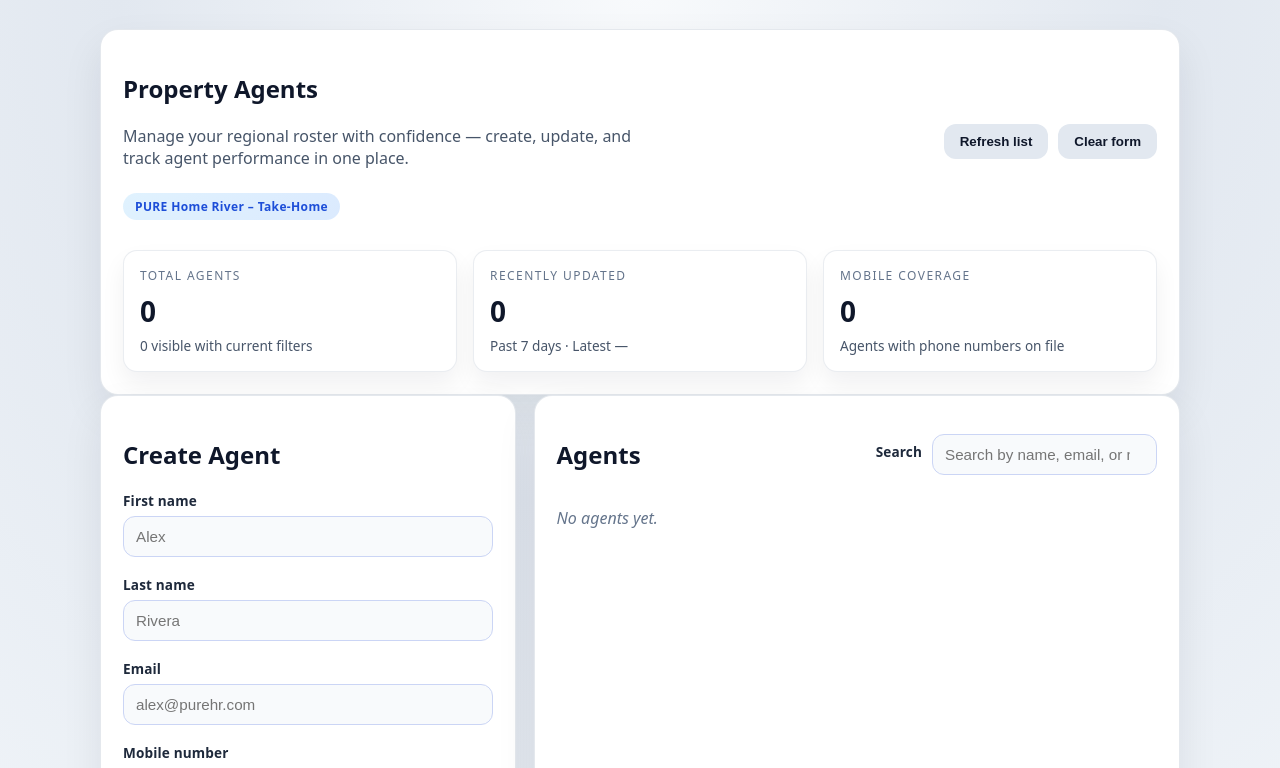
Test: App › submits create form and refreshes list
The image size is (1280, 768).
Type "Jamie" into the field with test id "first-name". click: (308, 536)
box: [123,516,493,557]
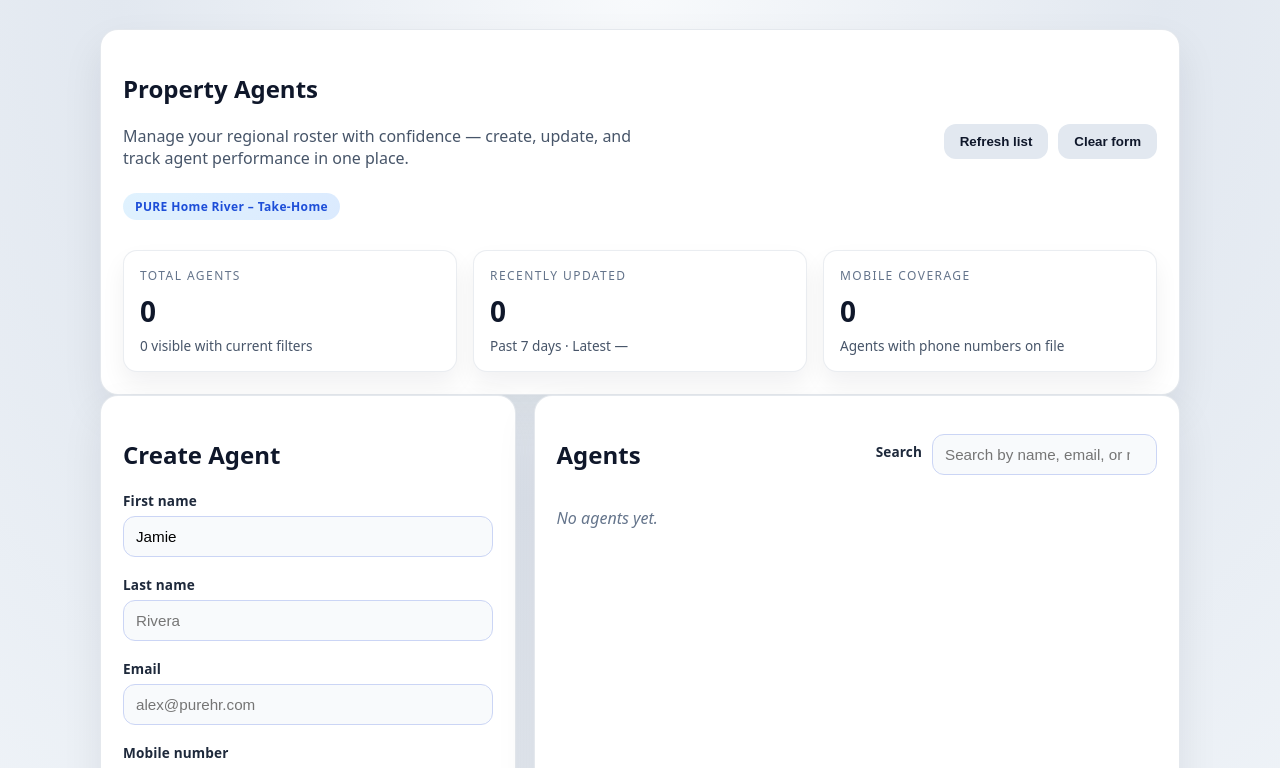
Type "Lee" into the field with test id "last-name". click: (308, 620)
box: [123,600,493,641]
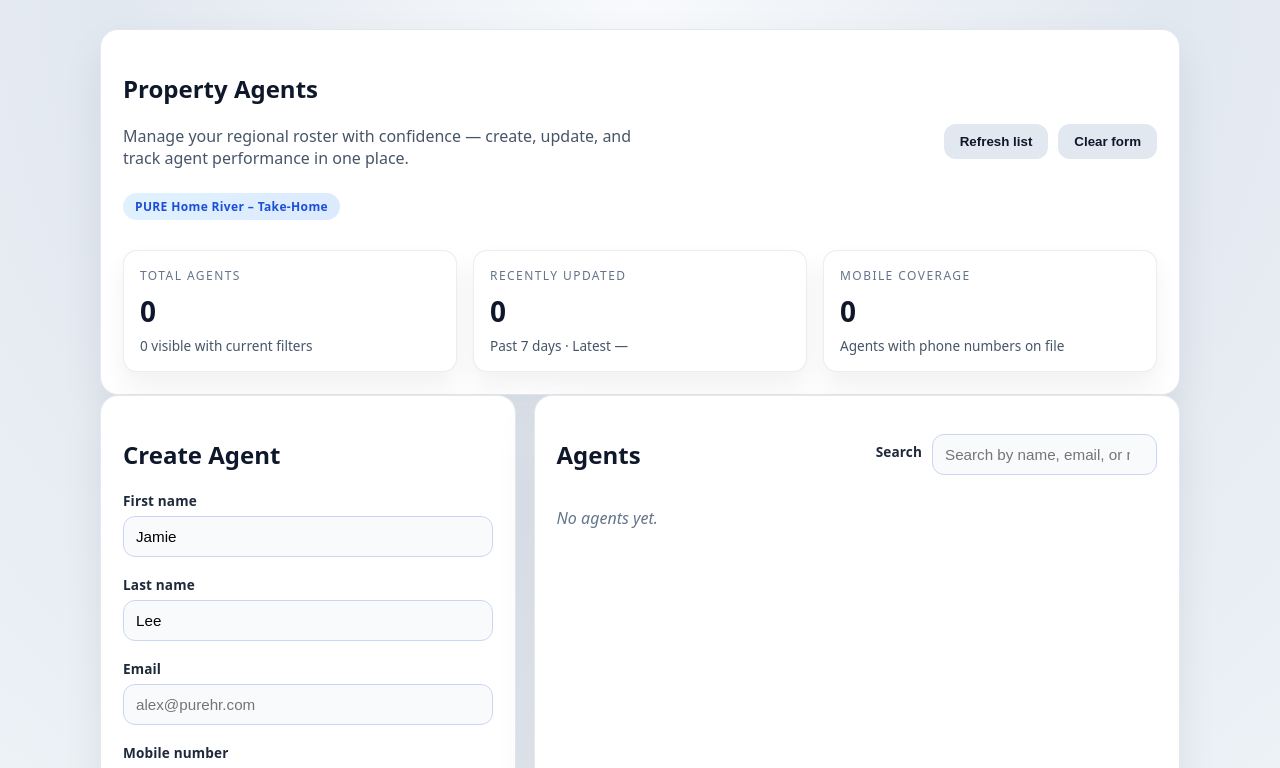
Type "jamie@purehr.com" into the field with test id "email". click: (308, 704)
box: [123,684,493,725]
(page scrolled)
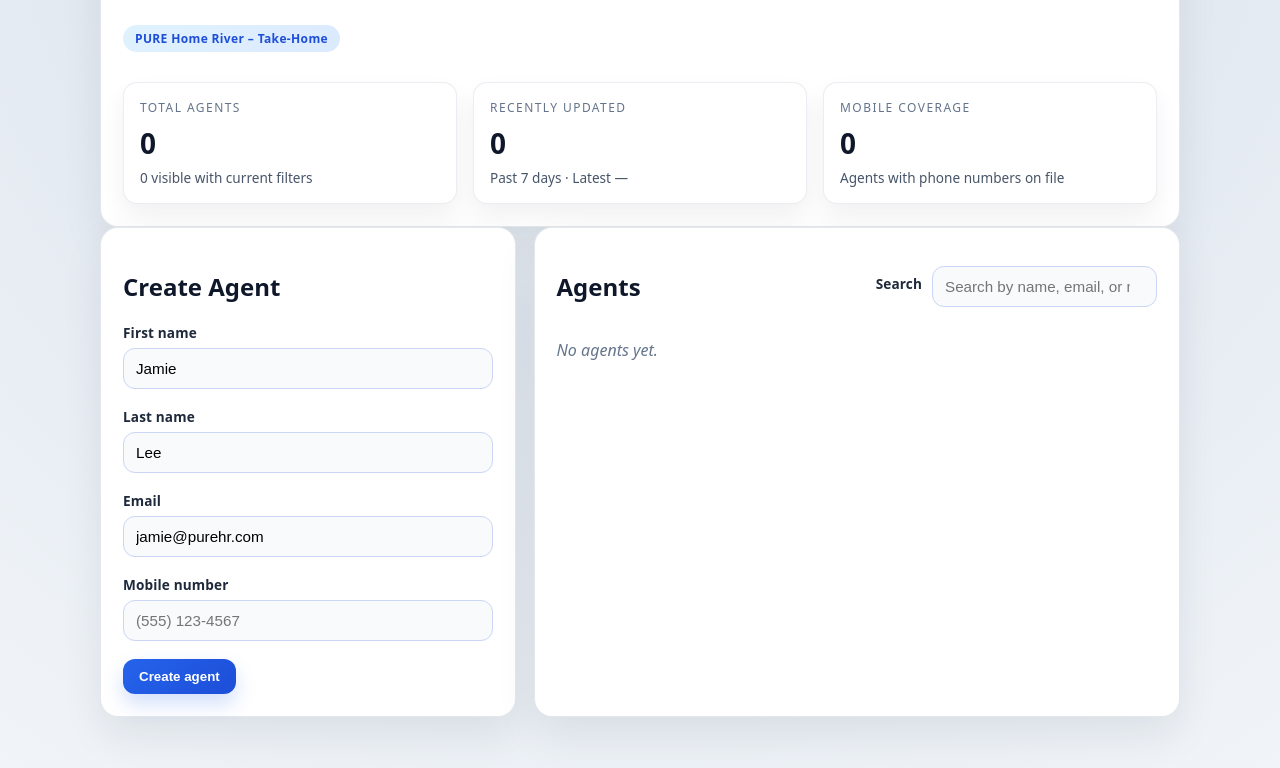
Type "555-777-8888" into the field with test id "mobile-number". click: (308, 620)
box: [123,600,493,641]
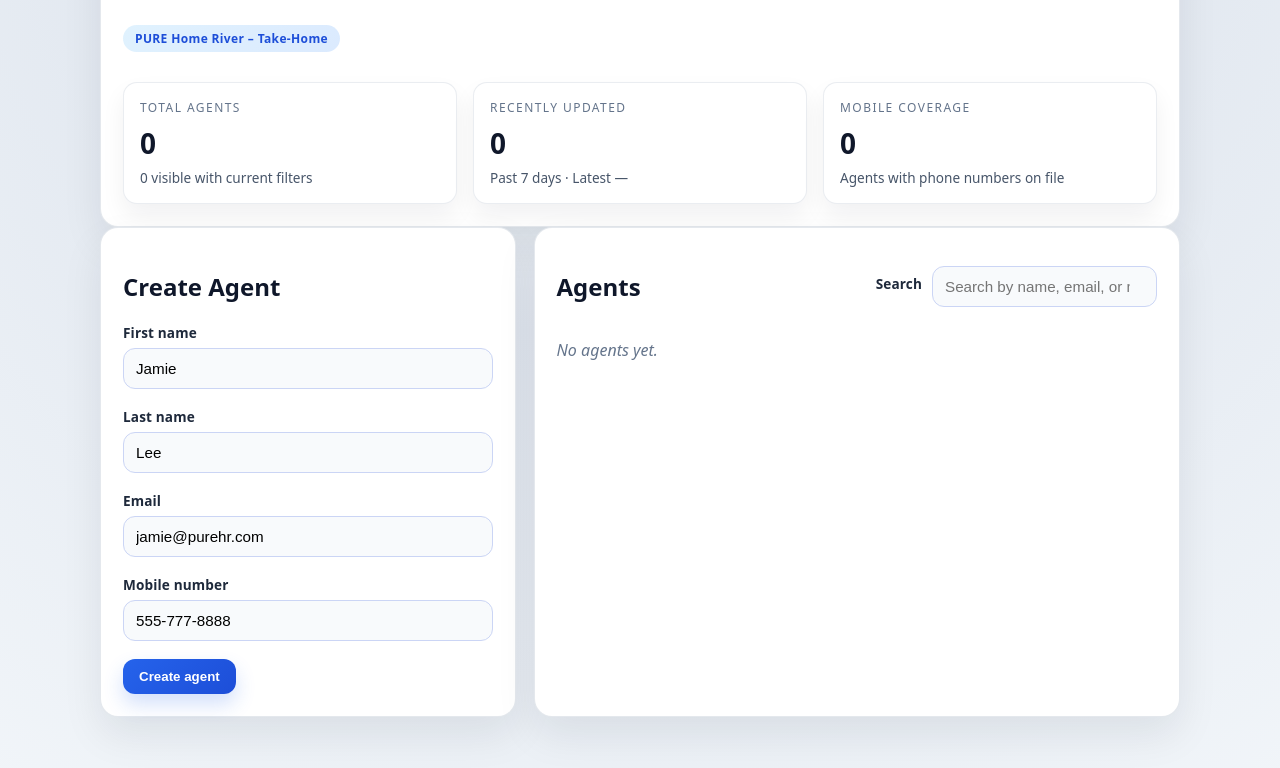
Click the button with test id "submit-agent". click: (179, 676)
box: [123,659,236,694]
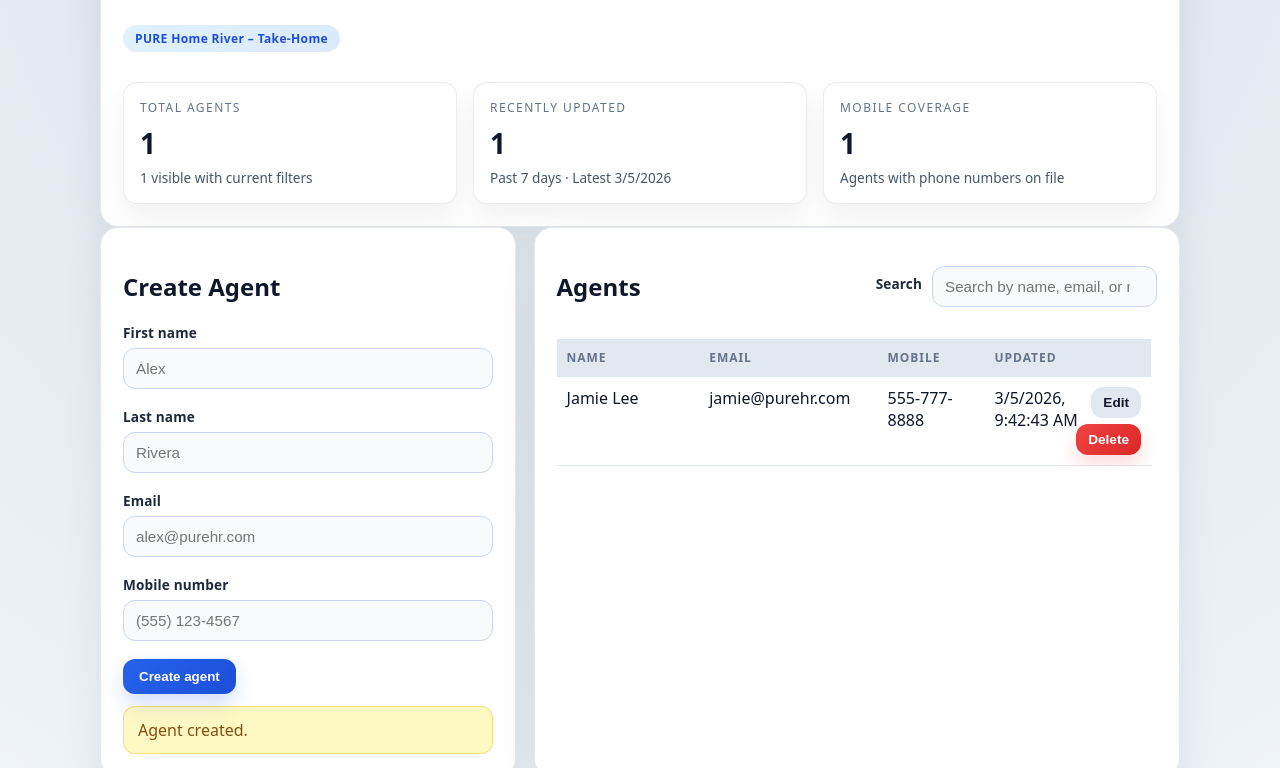
Now the text "Jamie Lee" is shown, box [557,376,699,465]
